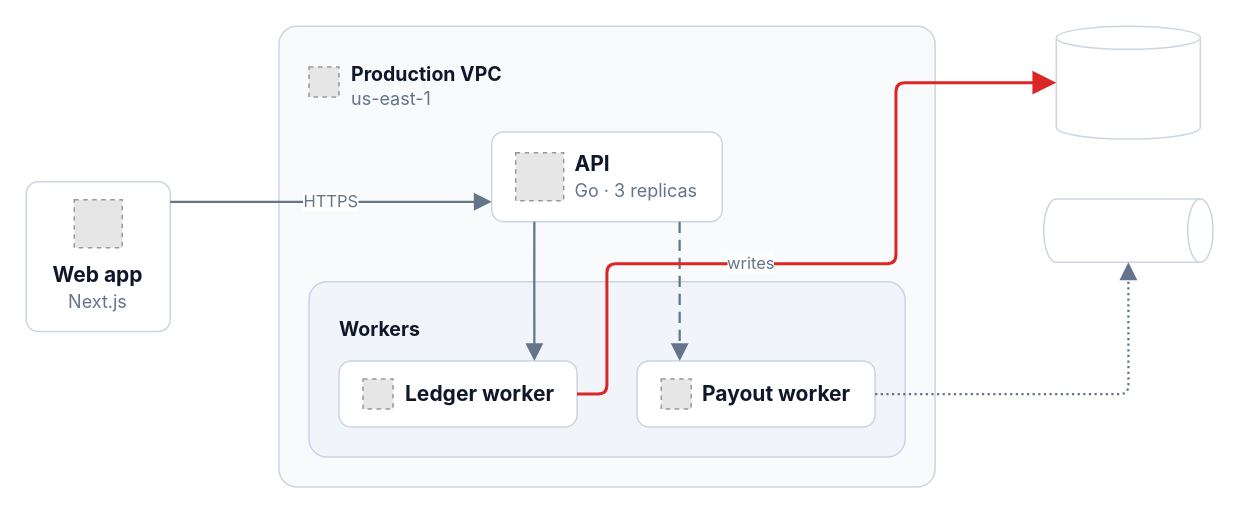
Some shapes in this 1241 by 515 pixel diagram are drawn without their labels. Grey dashed boxes stand in for pictures. Here are the shapes that lost their labels. From the top down, the centre of each, then its label:
the point at 1127,82: Postgres primary
the point at 1127,230: Events
